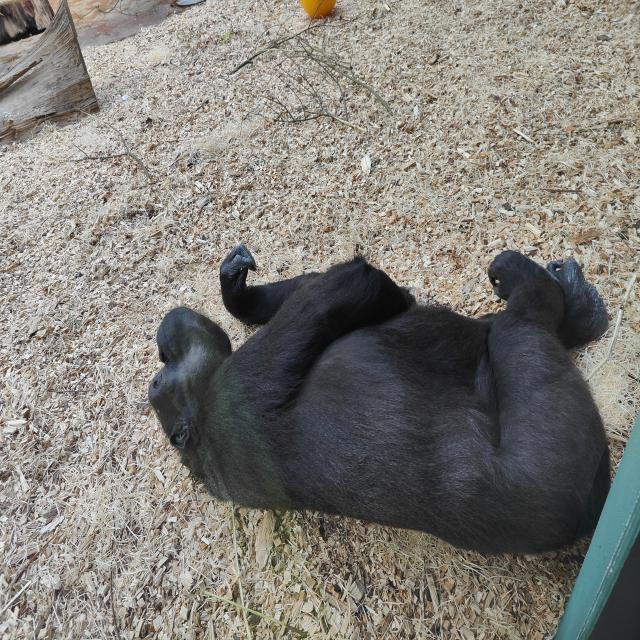monkey: (147, 244, 611, 558)
